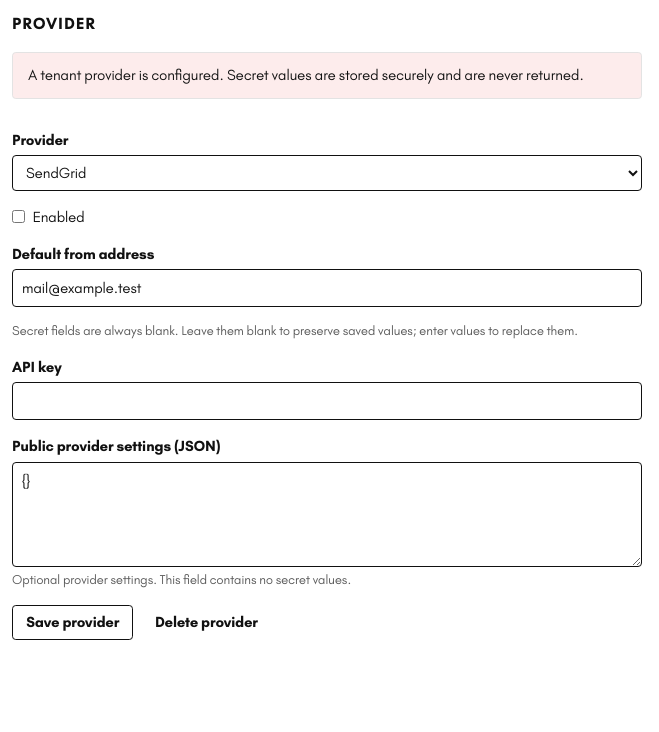
Test case: Email provider settings › keeps secret inputs empty and omits blank credentials when saving
Expected: the password field labelled "API key" is empty, [12,382,642,420]
Step 1. Click the checkbox labelled "Enabled" → (18, 217), box [12,210,25,223]
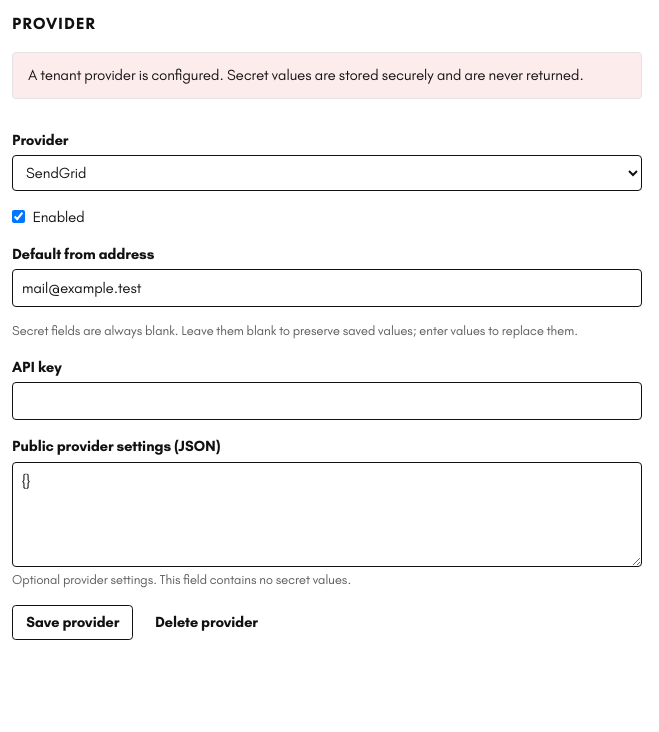
Step 2. Click the button "Save provider" → (73, 622), box [12,604,133,640]
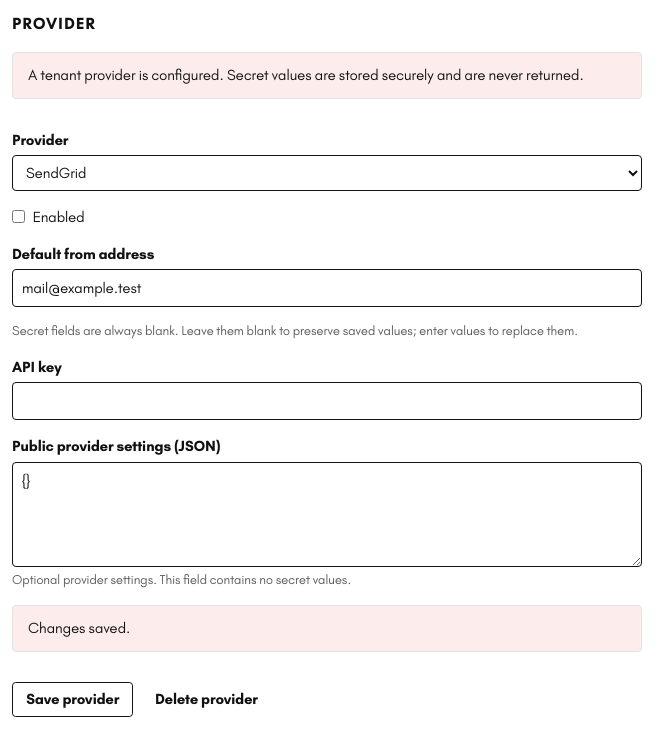
Expected: the text "Changes saved." is shown, [12,604,642,652]
